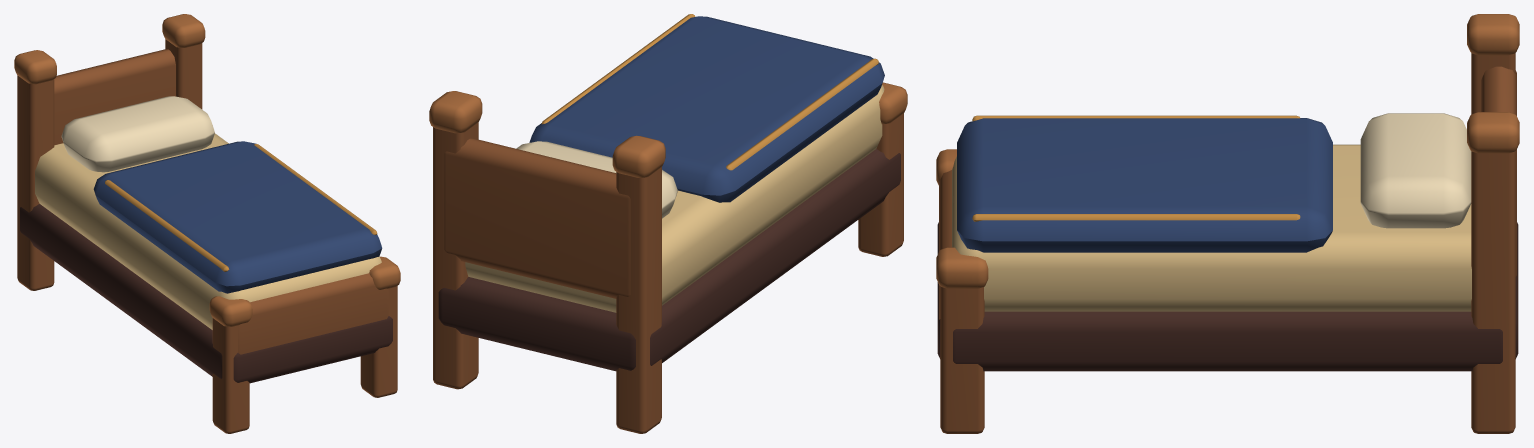
File: bedroom-bed.glb
The picture shows the model from 3 angles, left to right: view 1: azimuth 30°, elevation 25°; view 2: azimuth 150°, elevation 25°; view 3: azimuth 270°, elevation 25°; orthographic projection. The views are drawn at different scales.
Visible parts, largest first — view 1: bedroom_bed_pivot_Mesh; view 2: bedroom_bed_pivot_Mesh; view 3: bedroom_bed_pivot_Mesh.
Part boxes in pixels (x1,y1,x2,y2): bedroom_bed_pivot_Mesh: [14, 14, 400, 433]; bedroom_bed_pivot_Mesh: [429, 14, 907, 433]; bedroom_bed_pivot_Mesh: [936, 14, 1519, 433].
Size of the model in its own units: 1.01 by 1.24 by 2.11.
